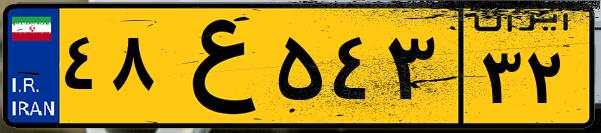2: (525, 38, 570, 115)
3: (385, 28, 445, 110), (475, 38, 525, 113)
4: (330, 28, 385, 110), (57, 26, 110, 100)
5: (270, 28, 330, 110)
8: (110, 28, 158, 98)
ع: (158, 12, 270, 120)
